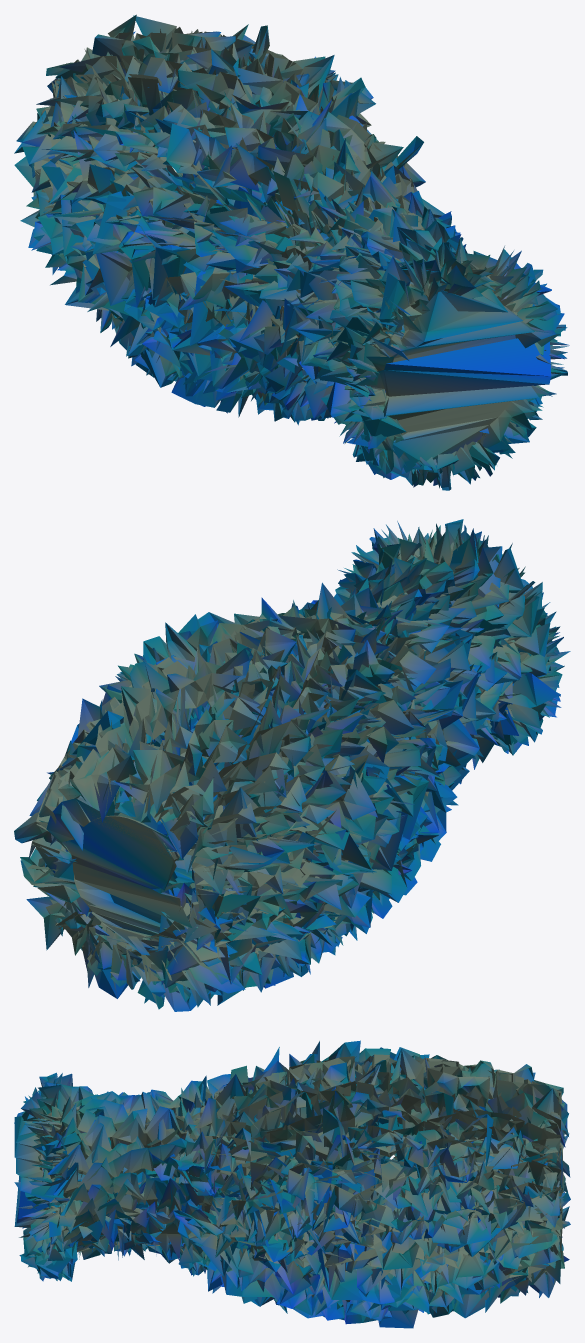
Rendered from lamp_shade_10_final100.obj.
3 views of the same model, one above another, from view 1: azimuth 30°, elevation 25°; view 2: azimuth 150°, elevation 25°; view 3: azimuth 270°, elevation 25° (orthographic). The views are drawn at different scales.
Bounding box in the file's own units: 1.02 × 0.9808 × 1.92.
